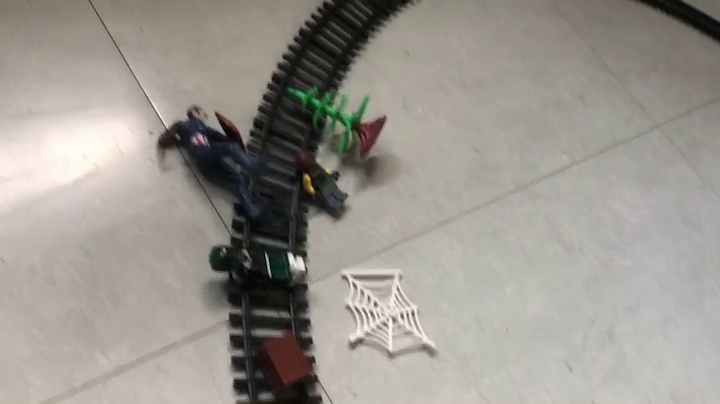box: (254, 335, 314, 404)
people: (156, 105, 276, 223), (208, 244, 308, 294), (293, 152, 352, 217)
tree: (285, 84, 387, 164)
web: (339, 268, 438, 358)
